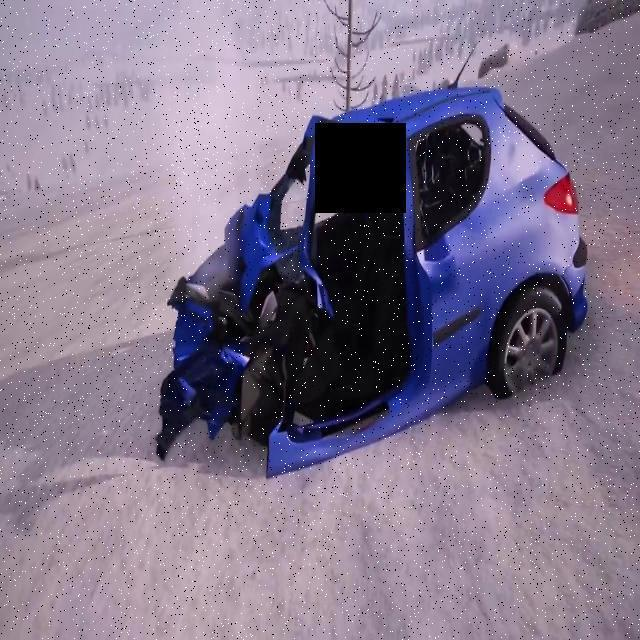multiple_accident: (100, 39, 604, 476)
